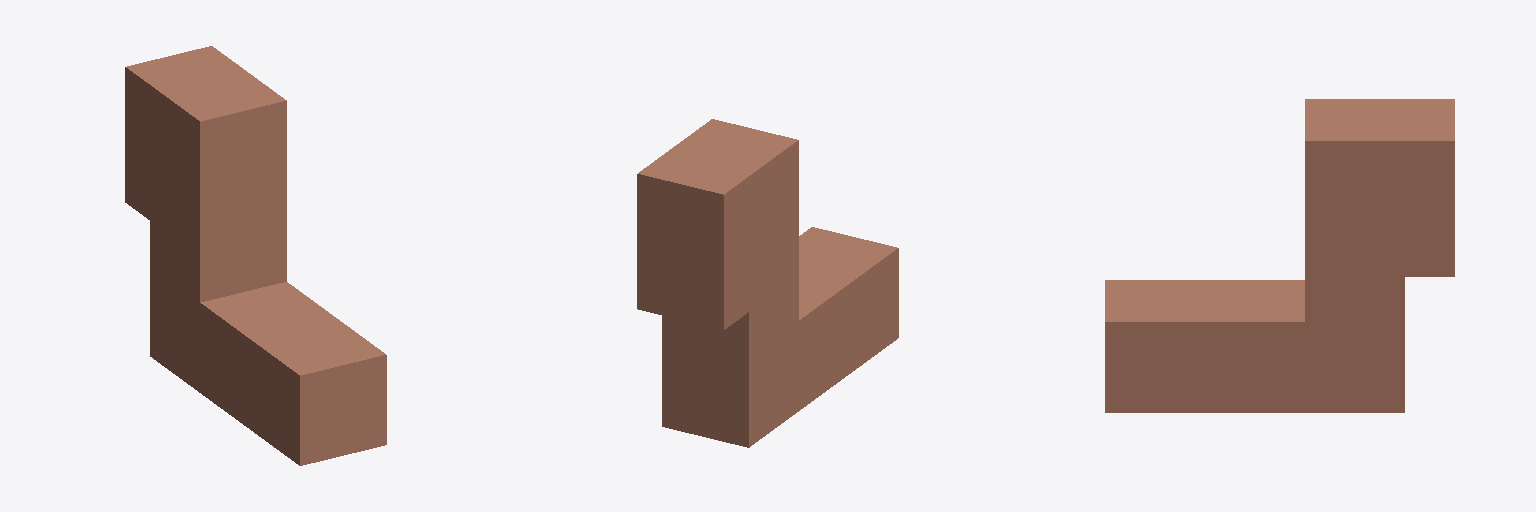
3 renders of one model, left to right at view 1: azimuth 30°, elevation 25°; view 2: azimuth 150°, elevation 25°; view 3: azimuth 270°, elevation 25°, orthographic.
Visible parts, largest first — view 1: object 1; view 2: object 1; view 3: object 1.
Part boxes in pixels (bbox=[...]): object 1: bbox=[125, 46, 386, 465]; object 1: bbox=[637, 119, 898, 447]; object 1: bbox=[1105, 99, 1454, 412].
Size of the model in its own units: 0.2 by 0.6 by 0.7.
Materials: 1 (1 with a texture image).